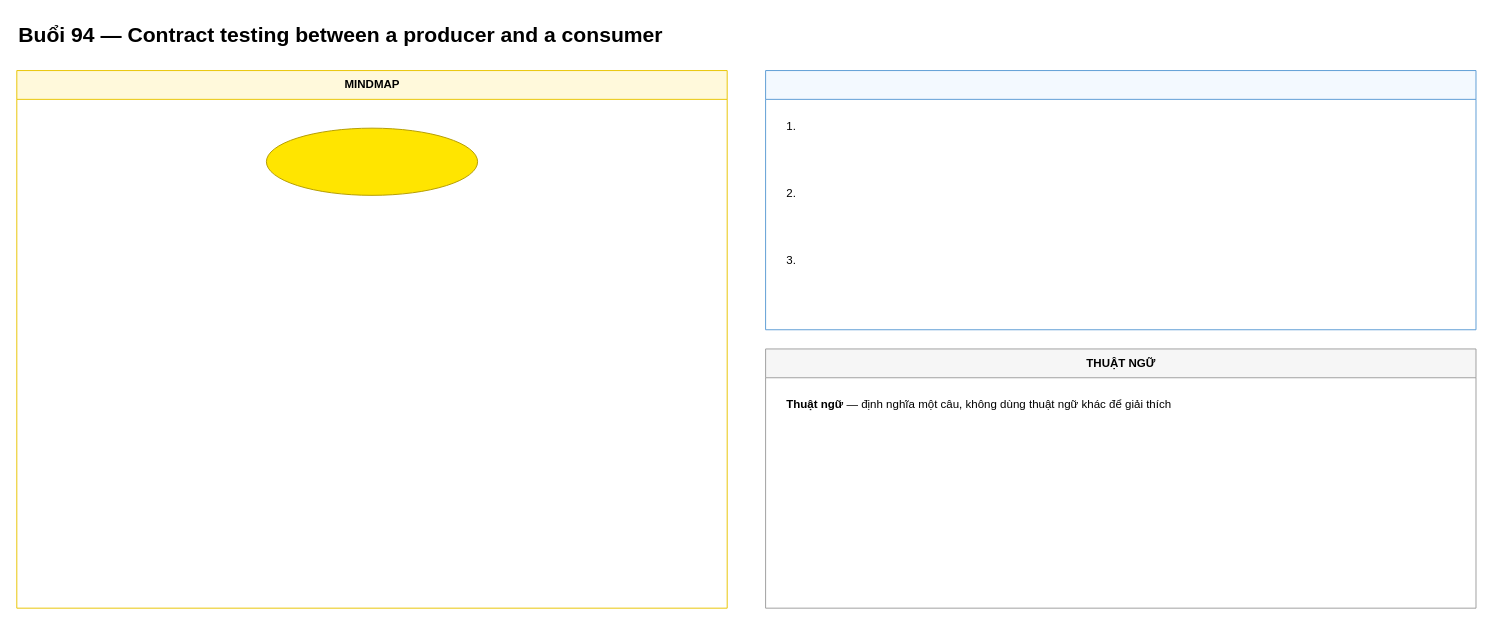
Some shapes in this 1493 by 625 pixel diagram are drawn without their labels. The box of each missing label's shape, as (x1, y1, x2, y2) in pixels:
Contract testing between a producer and a consumer: (265, 127, 478, 195)
KEY TAKEAWAY — ba điều phải nhớ: (765, 70, 1476, 330)
